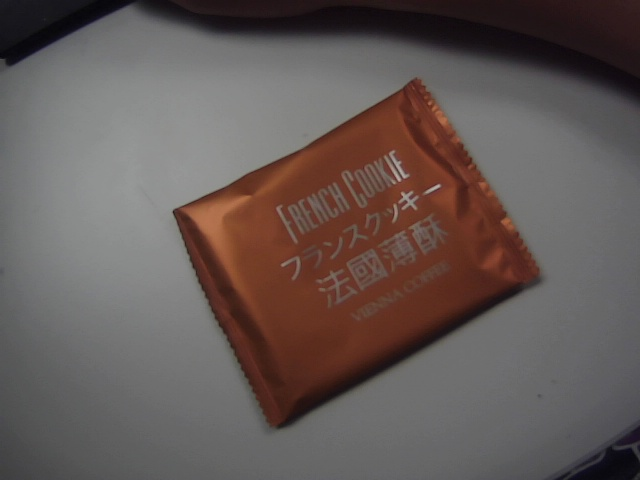frenchcookie: (152, 74, 552, 441)
